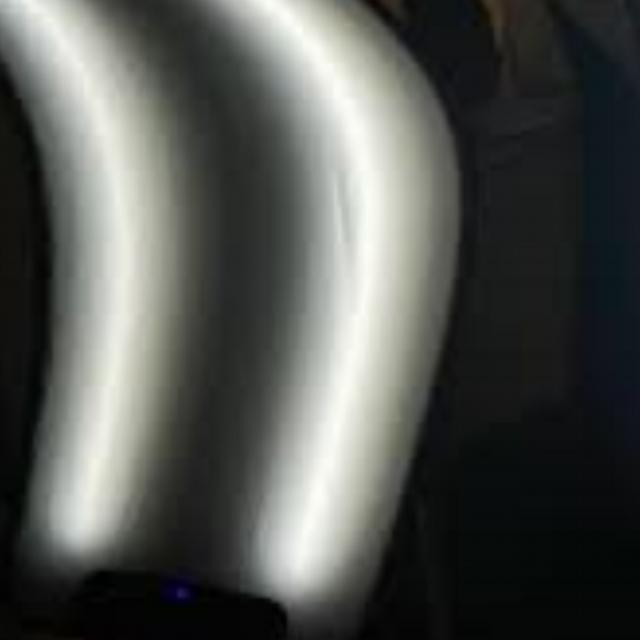dents: (327, 166, 376, 320)
